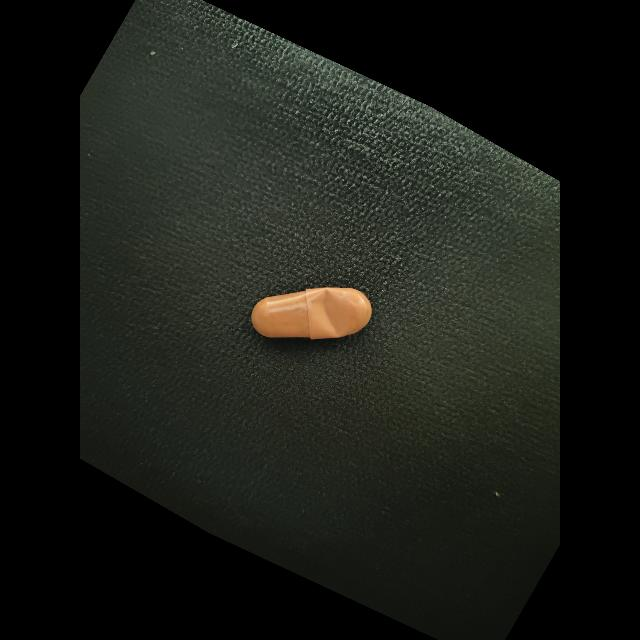Defective Capsule: (308, 289, 361, 337)
